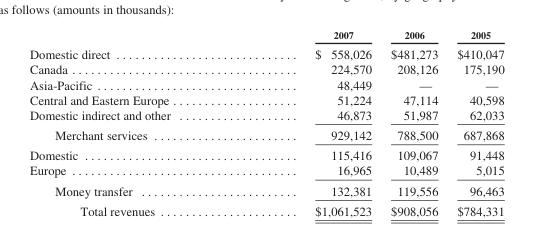table: (28, 28, 503, 217)
table column: (28, 28, 242, 217), (242, 28, 380, 217), (380, 28, 446, 217), (446, 28, 503, 217)
table column header: (28, 28, 503, 43)
table row: (28, 124, 503, 144), (28, 180, 503, 200), (28, 43, 503, 61), (28, 106, 503, 124), (28, 144, 503, 162), (28, 162, 503, 180), (28, 200, 503, 217), (28, 28, 503, 43), (28, 61, 503, 76), (28, 76, 503, 91), (28, 91, 503, 106)
